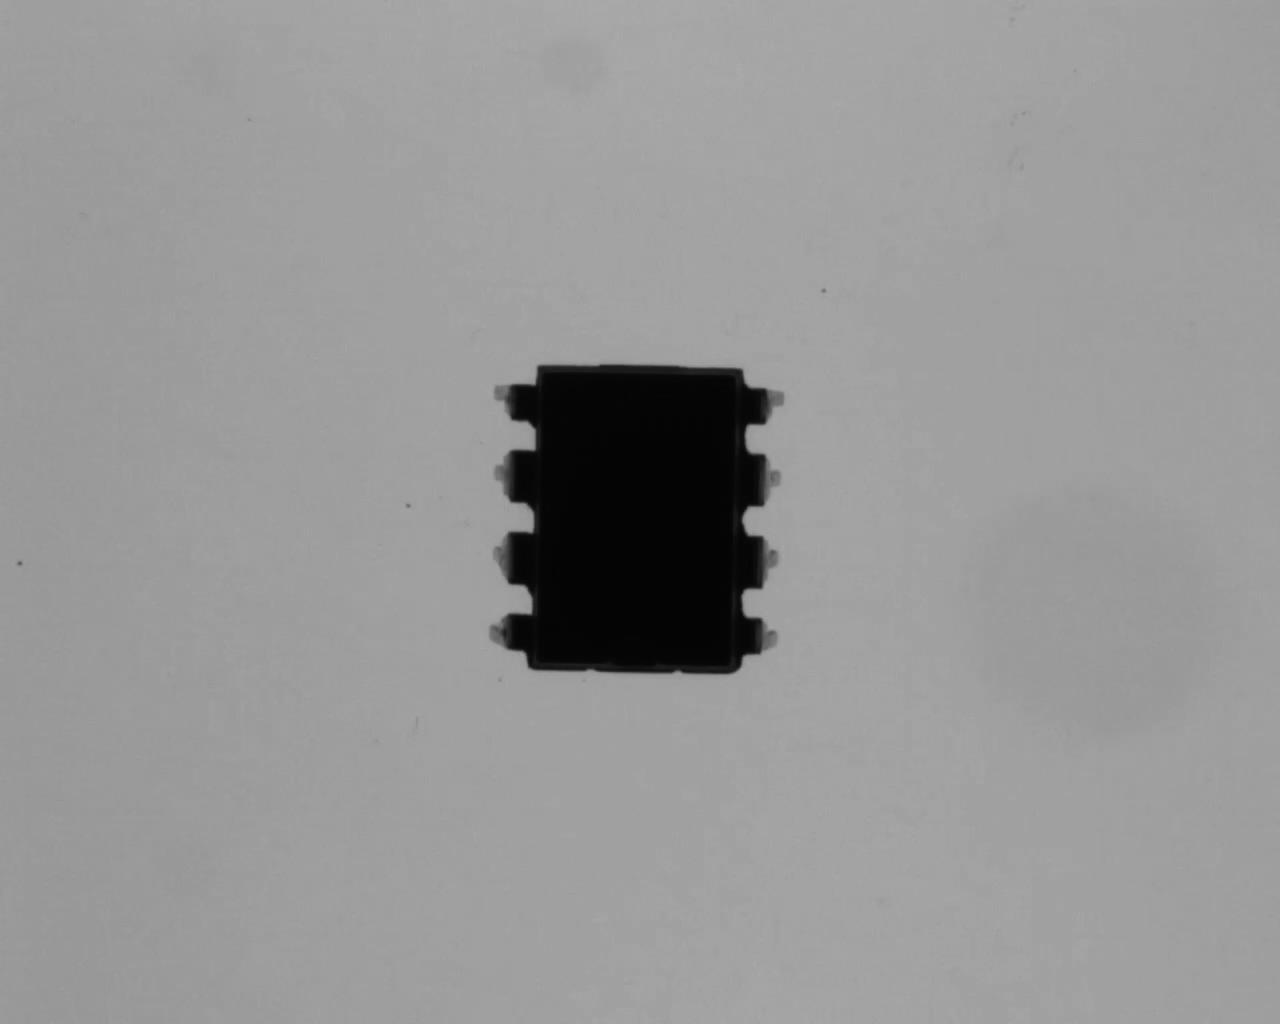Leg: (485, 444, 540, 517), (486, 374, 544, 433), (473, 608, 539, 657), (737, 446, 786, 511), (485, 529, 539, 587), (738, 530, 782, 597), (738, 611, 783, 660), (743, 382, 788, 430)
